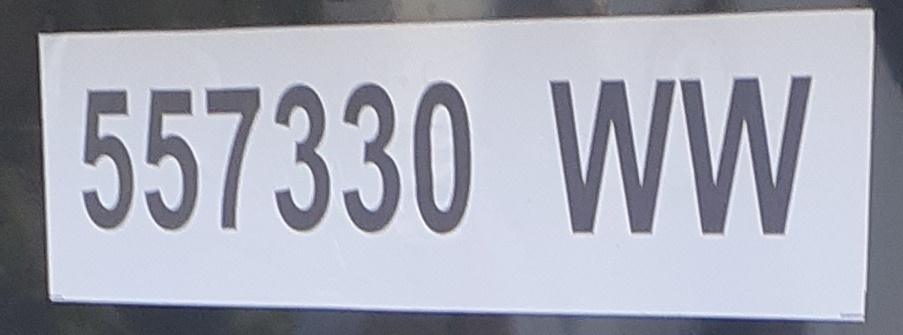0: (408, 68, 483, 245)
3: (337, 75, 408, 232), (272, 79, 333, 237)
5: (61, 76, 145, 240), (137, 67, 204, 235)
7: (205, 67, 262, 240)
w: (674, 67, 830, 241), (538, 68, 677, 243)
